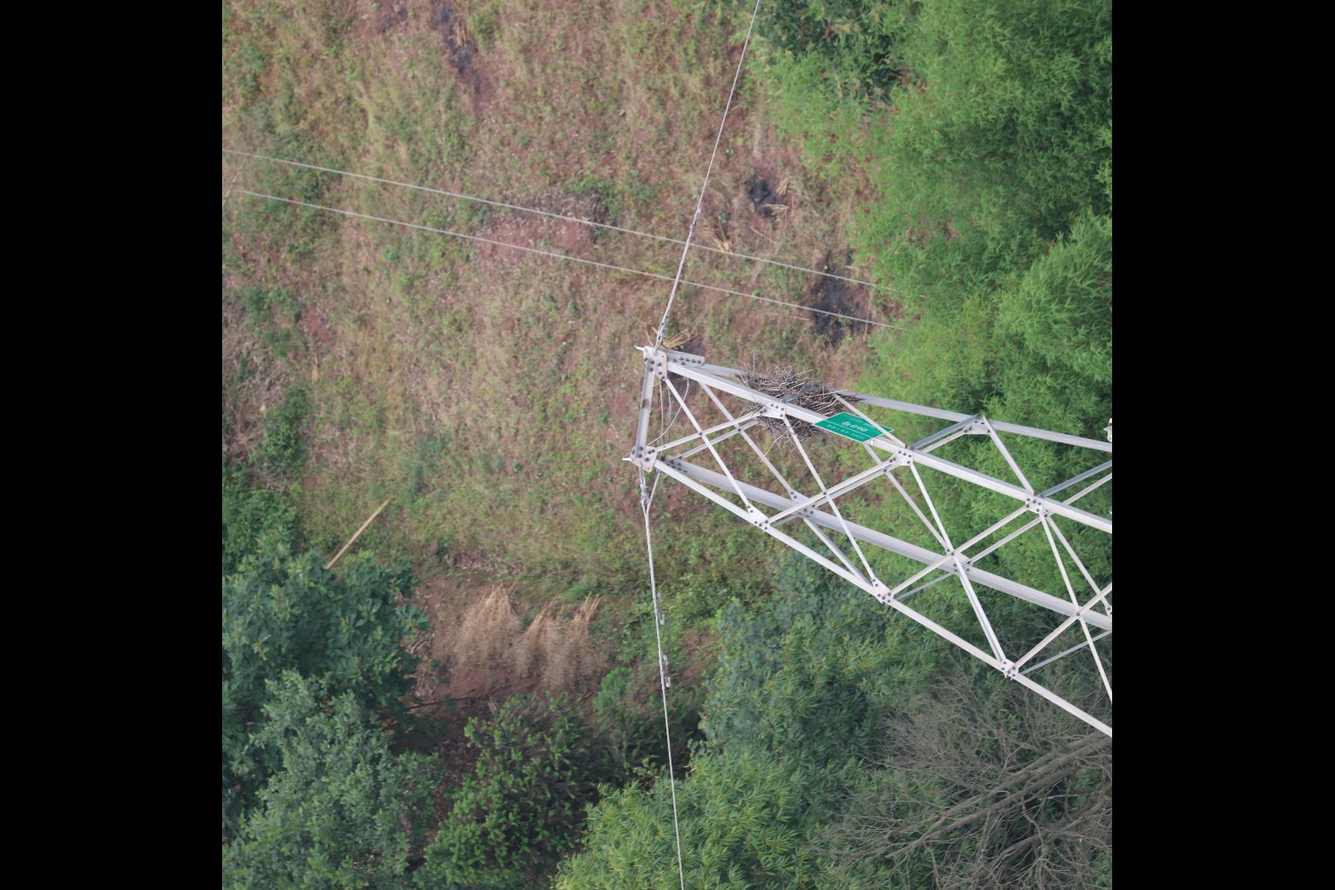damper: (650, 589, 669, 627), (657, 653, 673, 689)
nest: (736, 361, 845, 443)
